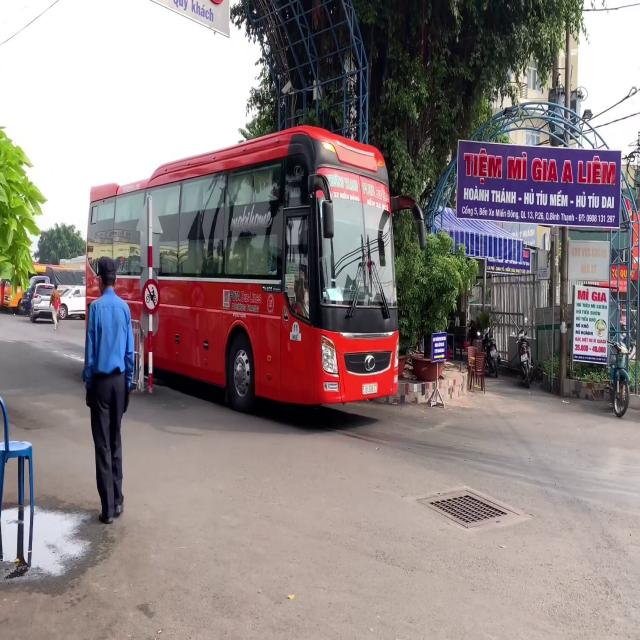bien_trang: (362, 384, 378, 394)
